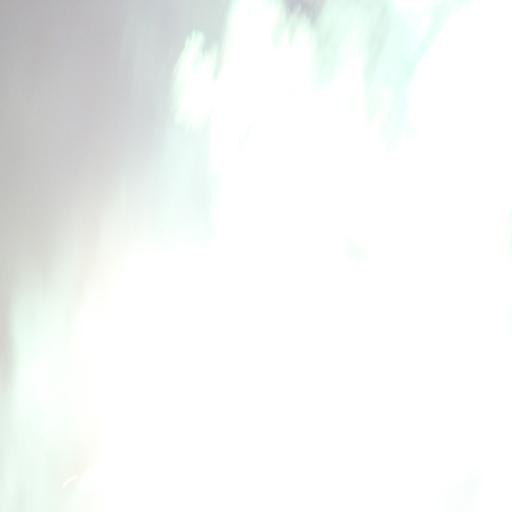la: (116, 133, 124, 135)
